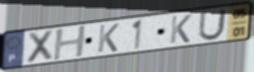1: (130, 17, 146, 52)
H: (52, 24, 89, 62)
K: (96, 22, 121, 54), (168, 13, 193, 45)
U: (197, 8, 229, 42)
X: (25, 28, 56, 65)
